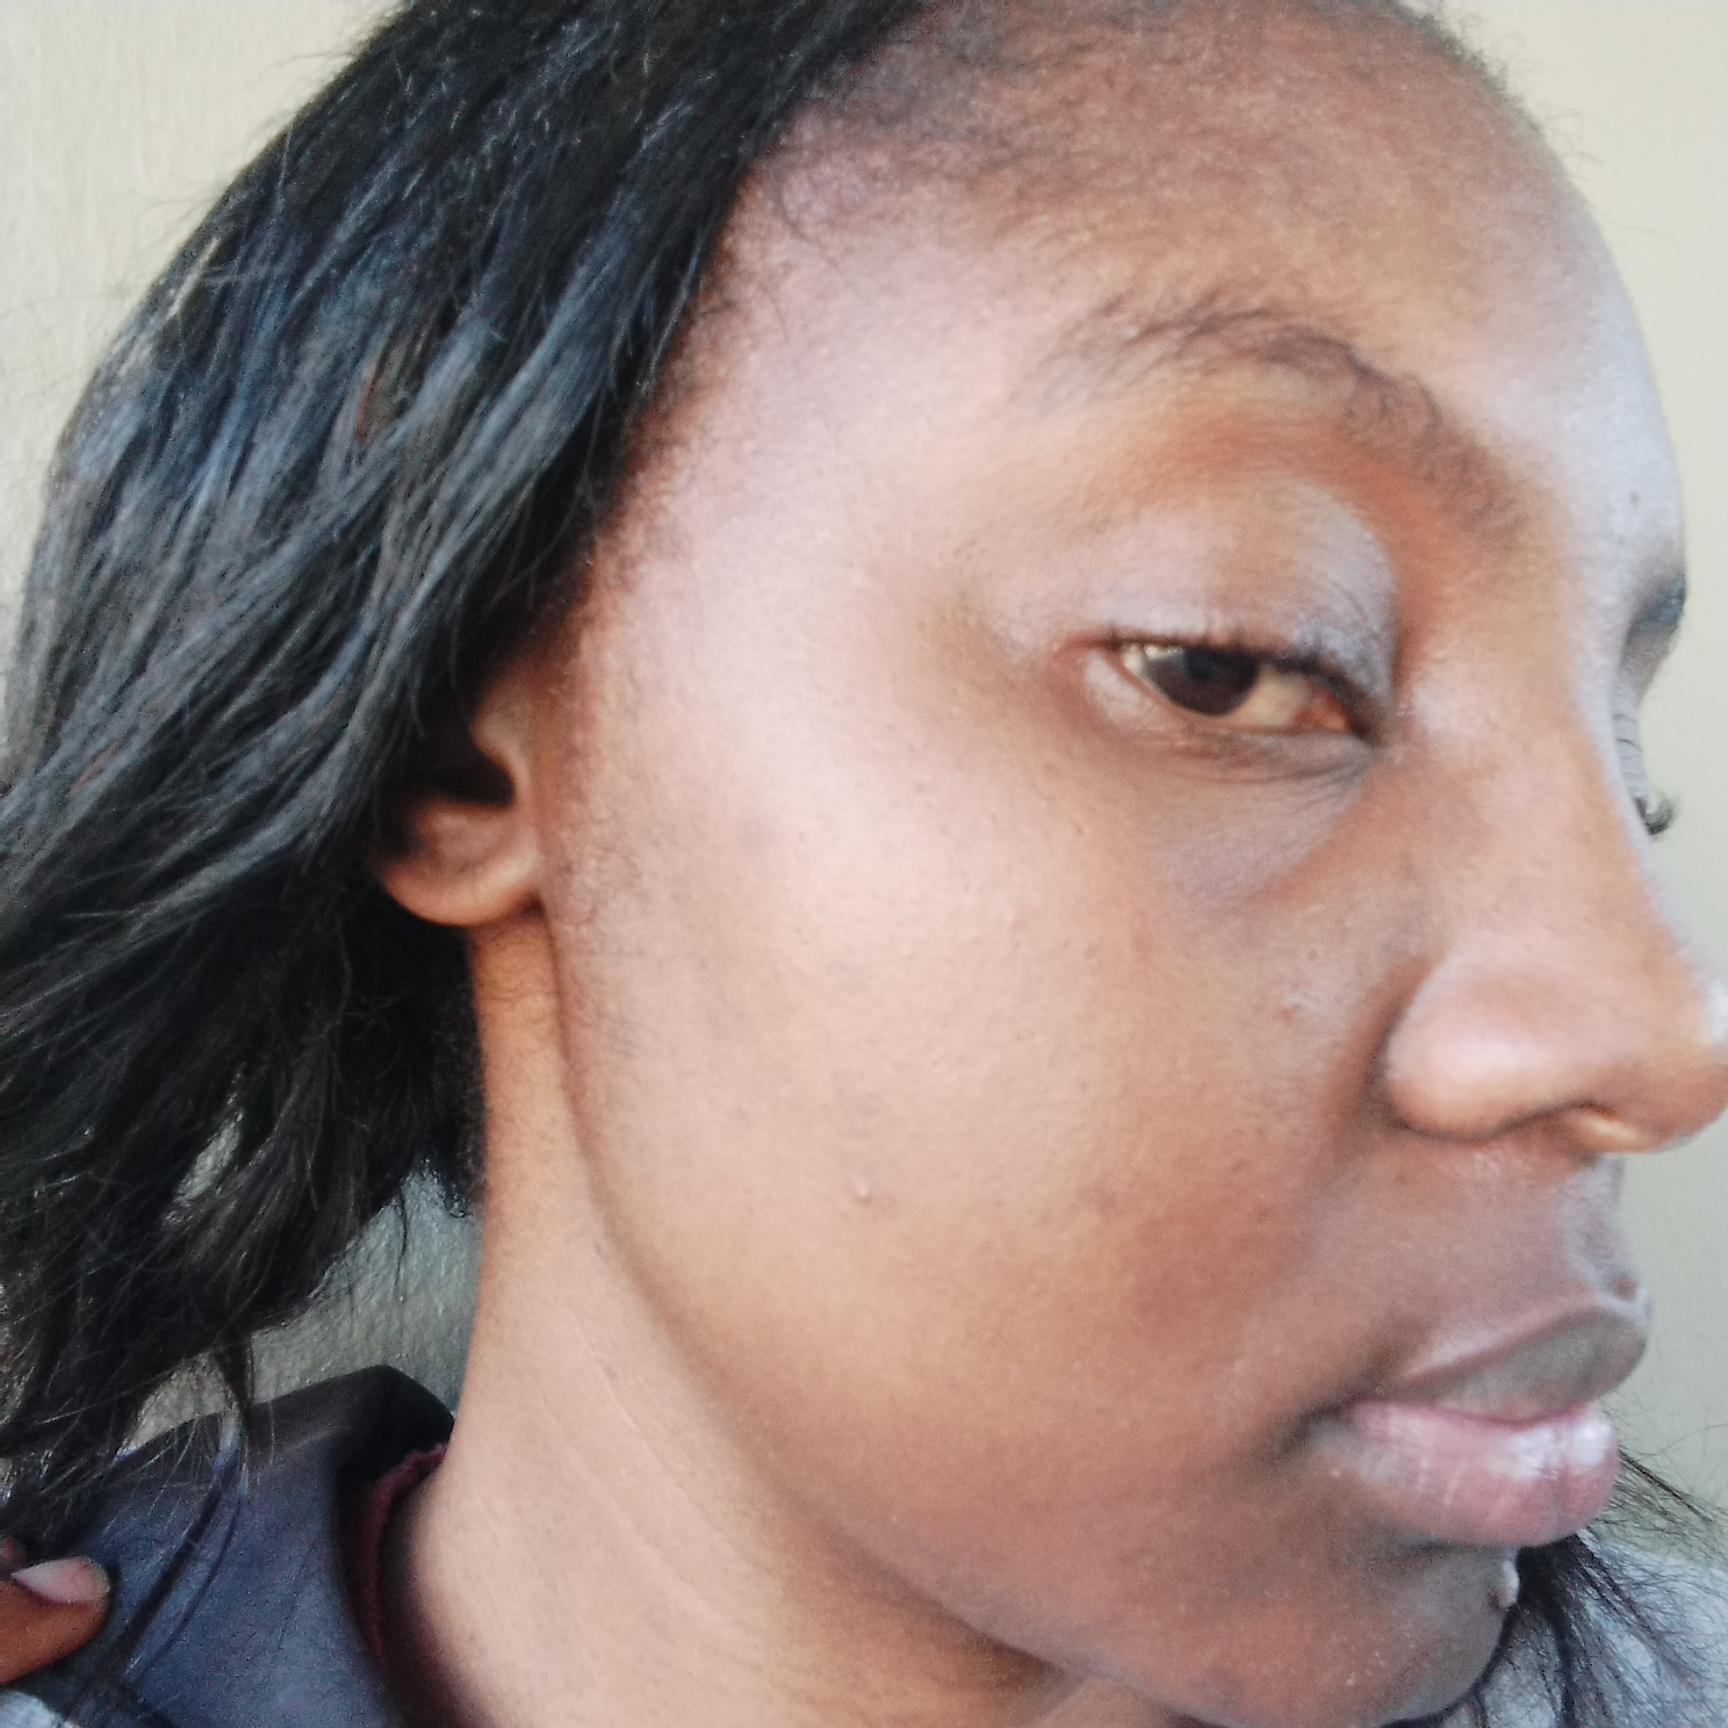Acne: (1051, 1180, 1130, 1241), (831, 1168, 891, 1223), (1263, 981, 1320, 1035), (1117, 916, 1169, 975), (991, 896, 1027, 943)
